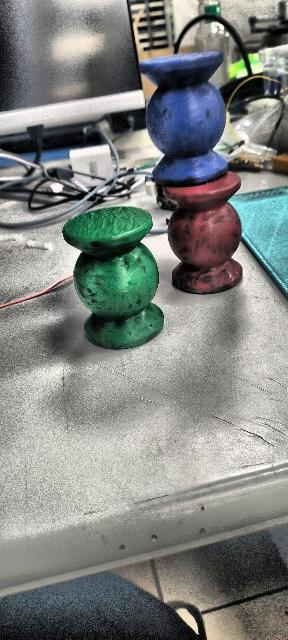blue: (139, 50, 229, 186)
green: (62, 204, 164, 350)
red: (149, 171, 242, 289)
